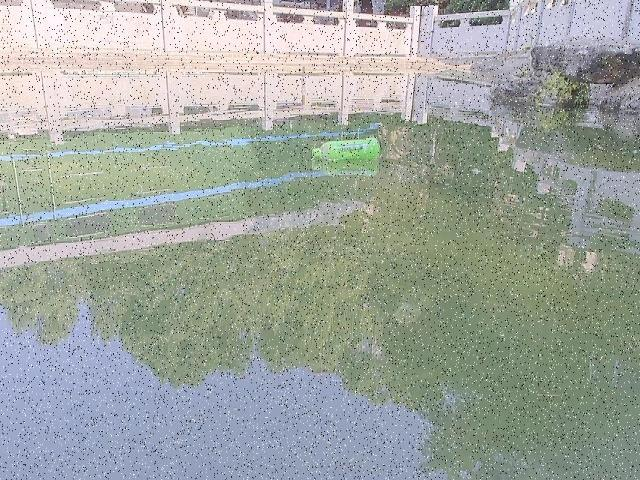Bottle: (304, 132, 386, 169)
